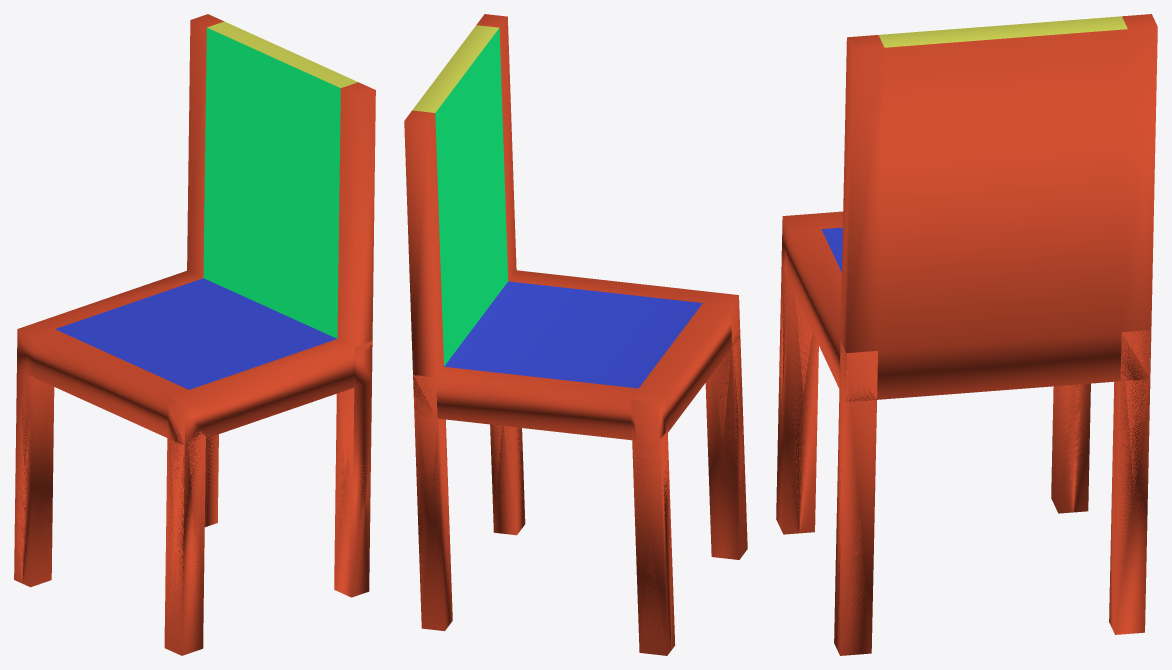
File: chair.dae
3 renders of one model, left to right at view 1: azimuth 30°, elevation 25°; view 2: azimuth 150°, elevation 25°; view 3: azimuth 270°, elevation 25°, orthographic. The views are drawn at different scales.
Visible parts, largest first — view 1: Chair; view 2: Chair; view 3: Chair.
Boxes of the visible parts, x1,y1,x2,y2 form: Chair: [14, 14, 375, 655]; Chair: [404, 14, 747, 655]; Chair: [776, 14, 1157, 655].
Size of what is drawn, in the model's own units: 3.71 by 3.67 by 6.55.
